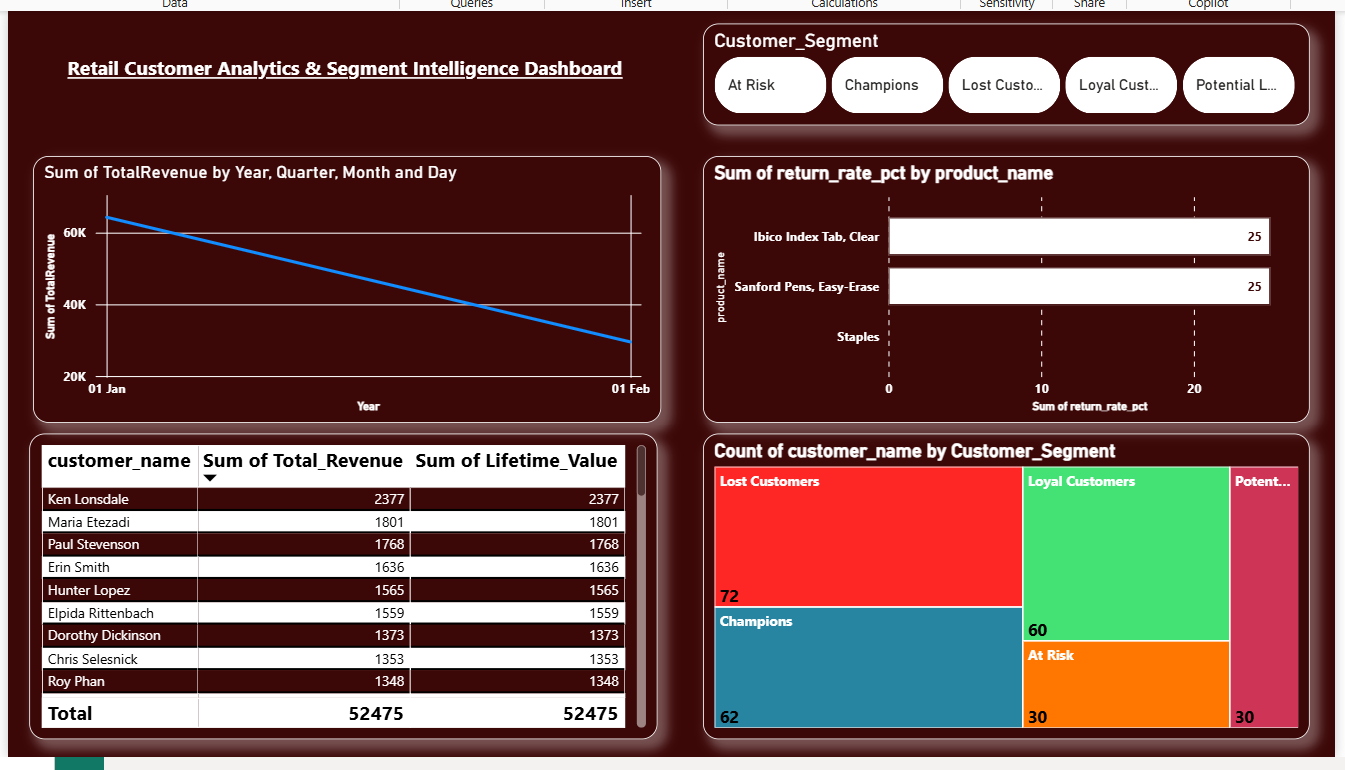

The page's visual inventory and layout, read from the dashboard file:
{"tool":"powerbi","page":{"name":"Page 1","canvas":[1280,720],"ordinal":0},"visuals":[{"type":"lineChart","fields":{"Y":["Sum(monthly_sales_trend.TotalRevenue)"],"Category":["monthly_sales_trend.SalesMonth.Variation.Date Hierarchy.Year","monthly_sales_trend.SalesMonth.Variation.Date Hierarchy.Quarter","monthly_sales_trend.SalesMonth.Variation.Date Hierarchy.Month","monthly_sales_trend.SalesMonth.Variation.Date Hierarchy.Day"]},"box":[24.7,140,606.5,258],"z":0},{"type":"treemap","fields":{"Values":["CountNonNull(customer_segments.customer_name)"],"Group":["customer_segments.Customer_Segment"]},"box":[671,407.5,585.9,295],"z":1},{"type":"clusteredBarChart","fields":{"Category":["product_performance.product_name"],"Y":["Sum(product_performance.return_rate_pct)"]},"box":[671,140,585.9,258],"z":2},{"type":"tableEx","fields":{"Values":["customer_clv.customer_name","Sum(customer_clv.Total_Revenue)","Sum(customer_clv.Lifetime_Value)"]},"box":[20.6,407.5,606.5,295],"z":3},{"type":"advancedSlicerVisual","fields":{"Values":["customer_segments.Customer_Segment"]},"box":[671,12.3,585.9,98.8],"z":4},{"type":"textbox","box":[24.7,37,602.4,46.7],"z":5}]}

Visuals, with their boxes in screenshot pixels (x1, y1, x2, y2):
lineChart - Sum(monthly_sales_trend.TotalRevenue) x monthly_sales_trend.SalesMonth.Variation.Date Hierarchy.Year: x1=6, y1=150, x2=657, y2=428
treemap - CountNonNull(customer_segments.customer_name) x customer_segments.Customer_Segment: x1=700, y1=438, x2=1329, y2=755
clusteredBarChart - product_performance.product_name x Sum(product_performance.return_rate_pct): x1=700, y1=150, x2=1329, y2=428
tableEx - customer_clv.customer_name x Sum(customer_clv.Total_Revenue): x1=1, y1=438, x2=653, y2=755
advancedSlicerVisual - customer_segments.Customer_Segment: x1=700, y1=13, x2=1329, y2=119
textbox: x1=6, y1=40, x2=653, y2=90
